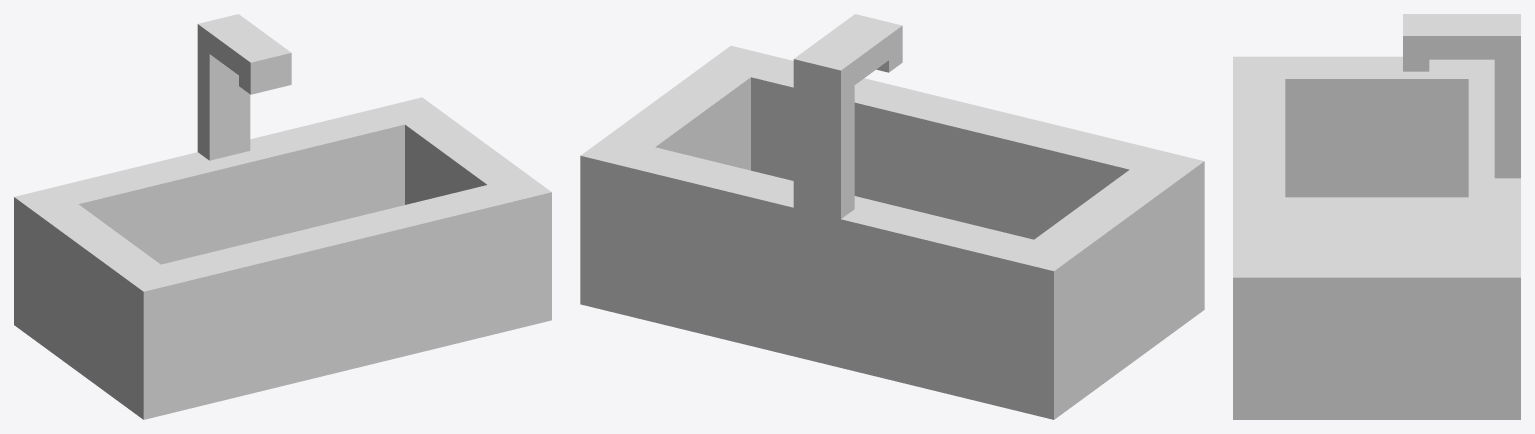
File: sink.fbx
3 views of the same model, side by side, from view 1: azimuth 30°, elevation 25°; view 2: azimuth 150°, elevation 25°; view 3: azimuth 270°, elevation 25° (orthographic). The views are drawn at different scales.
Visible parts, largest first — view 1: sinki; view 2: sinki; view 3: sinki.
Boxes of the visible parts, x1,y1,x2,y2 form: sinki: [14, 14, 551, 419]; sinki: [580, 14, 1204, 419]; sinki: [1233, 14, 1520, 419].
Bounding box in the file's own units: 4 × 2.4 × 2.2.
1 material, 1 textured.
